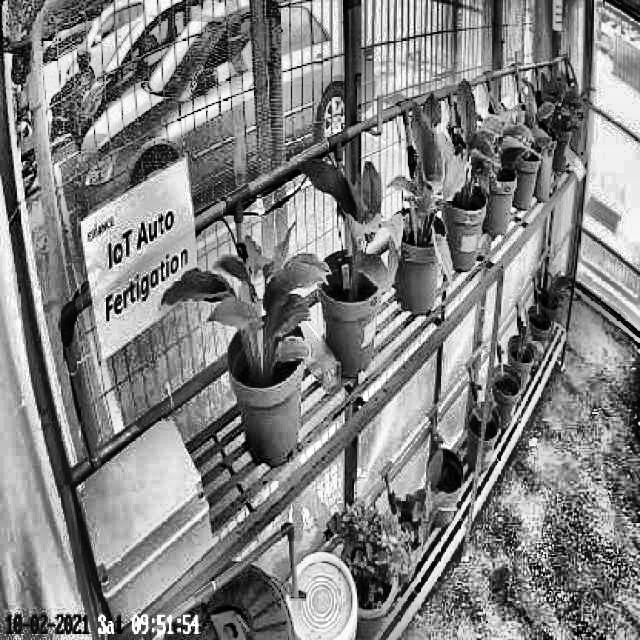plants: (161, 224, 330, 384), (298, 151, 404, 304), (390, 97, 455, 286), (438, 81, 506, 214)
